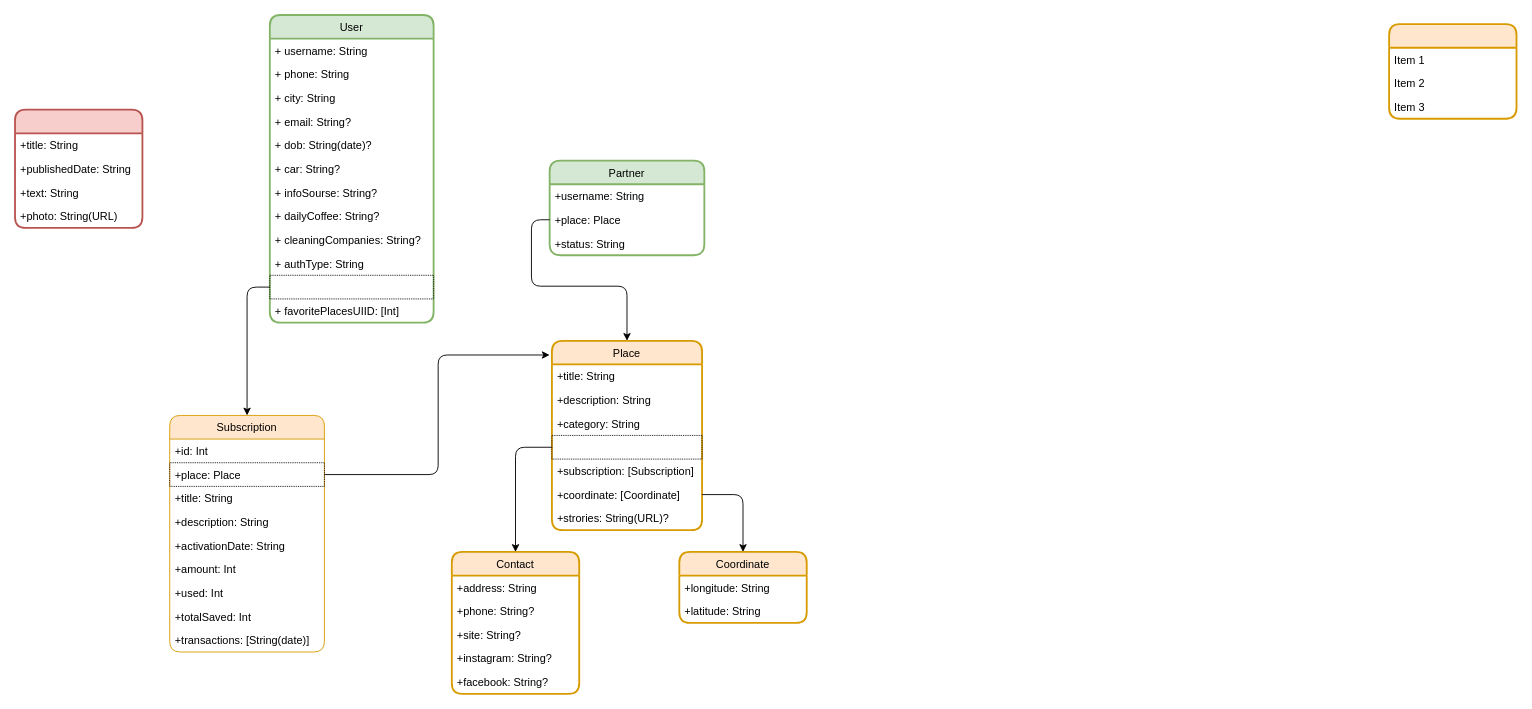
Image size: 1532x709. Some labels were removed from this diagram. Each missing label, with the box of its shape:
+ subscriptions: [Subscription]: (269, 274, 434, 299)
+contacts: Contact: (551, 435, 702, 459)
List: (1388, 23, 1517, 119)
News: (14, 108, 143, 228)
